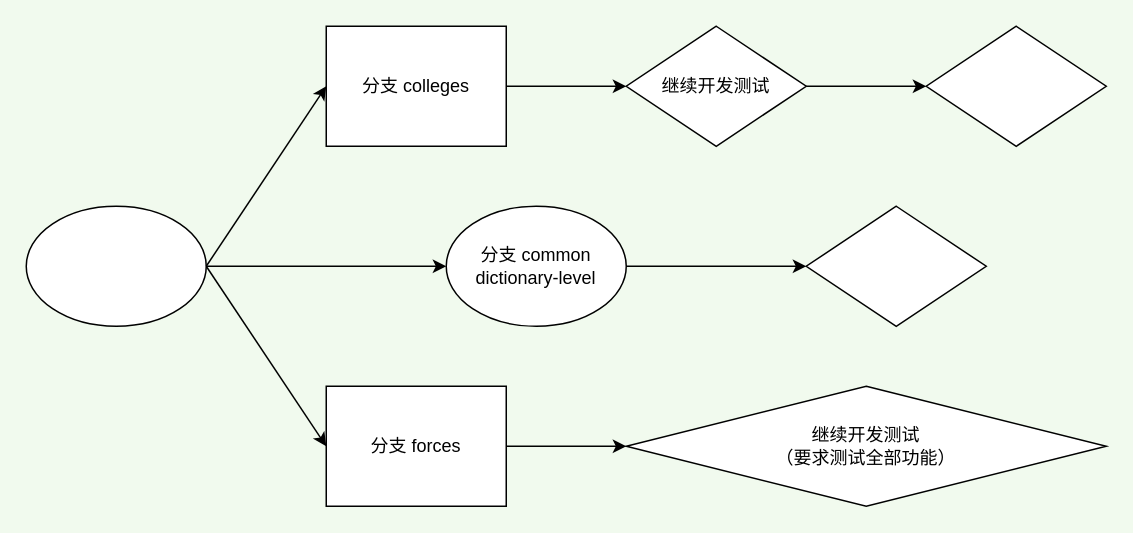
Some shapes in this 1133 by 533 pixel diagram are drawn without their labels. Here are the shapes that lost their labels. From the top down, the box of each, then its label:
(925, 25, 1106, 146): 开发完成上线
(25, 205, 206, 326): 主分支 master
(805, 205, 986, 326): 开发测试完成
